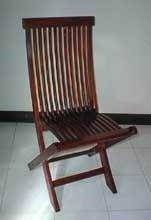obstacle: (22, 16, 136, 211)
